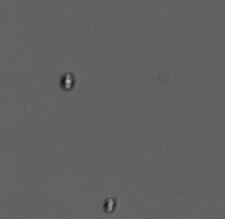Dead Cell: (101, 195, 118, 214)
Living Cell: (59, 72, 77, 91)
